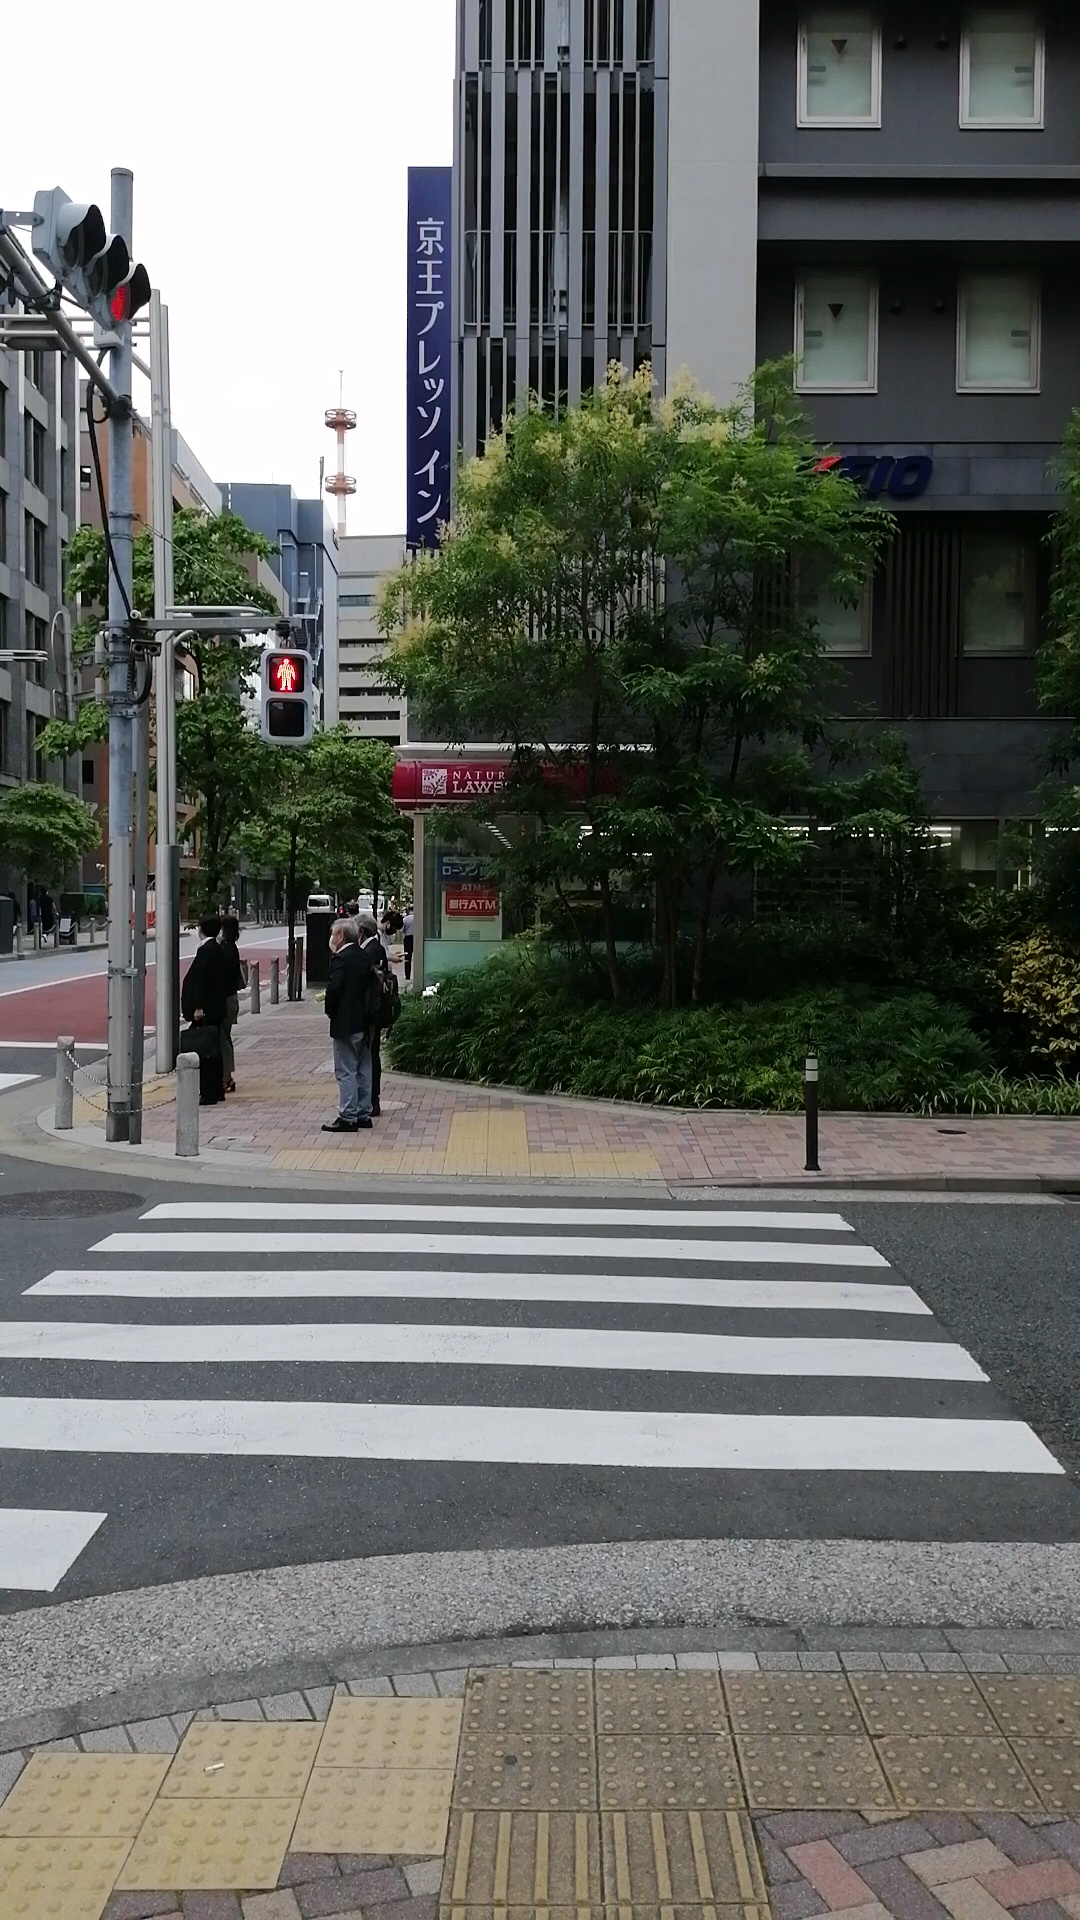red: (262, 647, 313, 742)
